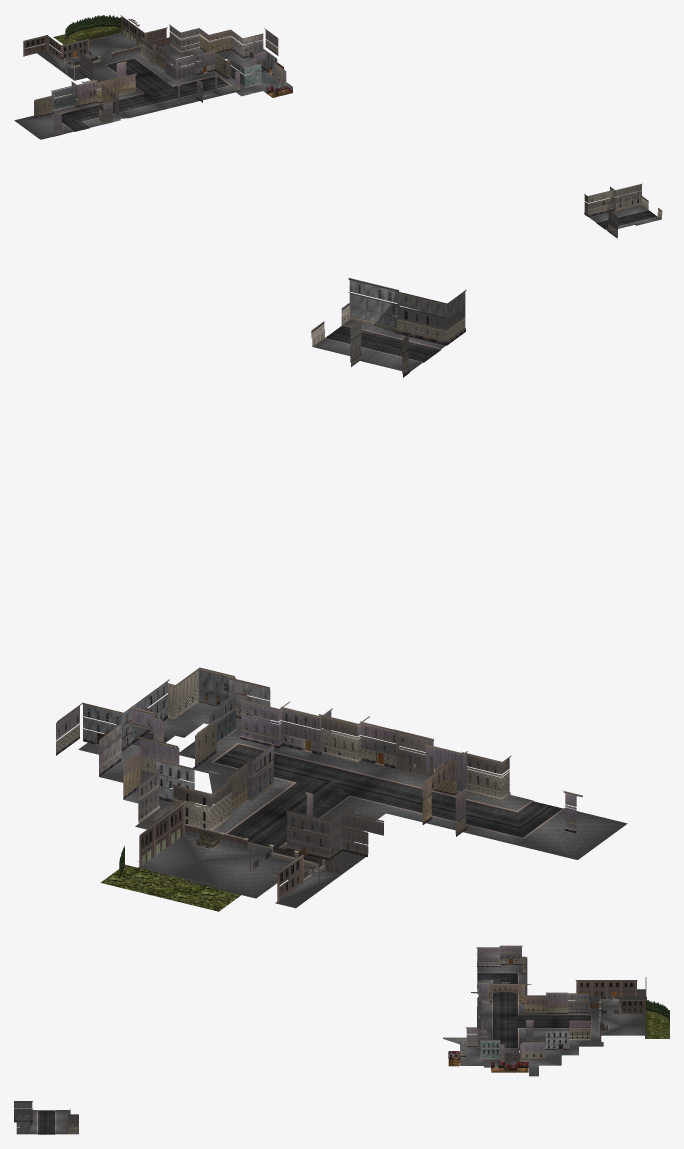
File: Streets.glb
3 views of the same model, one above another, from view 1: azimuth 30°, elevation 25°; view 2: azimuth 150°, elevation 25°; view 3: azimuth 270°, elevation 25° (orthographic). The views are drawn at different scales.
Parts seen in each view (by area): view 1: Streets_0, Streets_9, Streets_8, Streets_5, Streets_61, Streets_37, Streets_1, Streets_10, Streets_3, Streets_11, Streets_22, Streets_2 (+6 smaller); view 2: Streets_0, Streets_9, Streets_8, Streets_61, Streets_5, Streets_22, Streets_1, Streets_10, Streets_11, Streets_3, Streets_6, Streets_37 (+6 smaller); view 3: Streets_0, Streets_8, Streets_9, Streets_61, Streets_5, Streets_37, Streets_1, Streets_22, Streets_10, Streets_2, Streets_11, Streets_7 (+2 smaller).
Part boxes in pixels (x1,y1,x2,y2): Streets_0: [14, 33, 661, 230]; Streets_9: [51, 25, 614, 208]; Streets_8: [61, 58, 656, 229]; Streets_5: [34, 36, 662, 235]; Streets_61: [231, 30, 641, 223]; Streets_37: [24, 17, 165, 59]; Streets_1: [24, 18, 639, 236]; Streets_10: [38, 56, 661, 229]; Streets_3: [24, 15, 642, 231]; Streets_11: [34, 28, 641, 216]; Streets_22: [53, 26, 120, 44]; Streets_2: [25, 29, 614, 214]; Streets_0: [78, 319, 627, 908]; Streets_9: [56, 350, 576, 857]; Streets_8: [214, 326, 562, 847]; Streets_61: [83, 280, 465, 802]; Streets_5: [56, 305, 509, 833]; Streets_22: [100, 861, 240, 911]; Streets_1: [138, 316, 582, 886]; Streets_10: [95, 310, 565, 876]; Streets_11: [56, 291, 582, 837]; Streets_3: [138, 307, 576, 872]; Streets_6: [216, 721, 466, 799]; Streets_37: [141, 805, 301, 899]; Streets_0: [30, 957, 646, 1134]; Streets_8: [38, 973, 591, 1134]; Streets_9: [466, 947, 590, 1064]; Streets_61: [14, 1031, 569, 1132]; Streets_5: [14, 958, 590, 1119]; Streets_37: [578, 981, 644, 1026]; Streets_1: [14, 945, 645, 1132]; Streets_22: [645, 1010, 669, 1038]; Streets_10: [37, 964, 619, 1134]; Streets_2: [70, 946, 643, 1113]; Streets_11: [14, 946, 589, 1121]; Streets_7: [16, 997, 619, 1134].
Size of the model in its own units: 824 by 49.25 by 1289.
124 materials, 123 textured.
